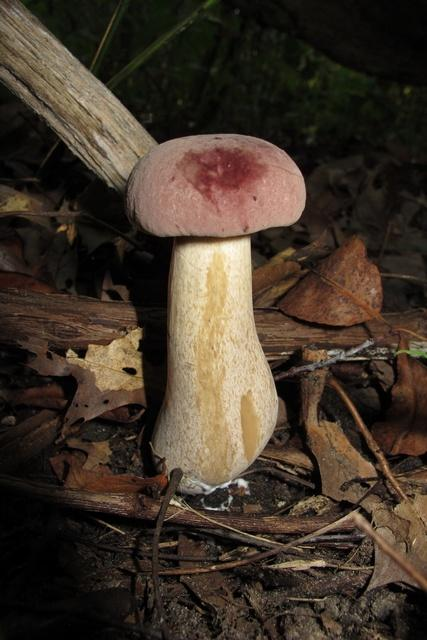Non-edible Mushroom: (123, 131, 307, 496)
